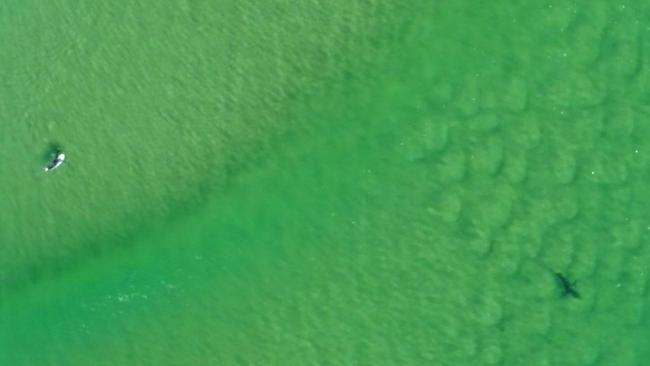shark: (551, 269, 584, 303)
surfer: (41, 148, 69, 175)
